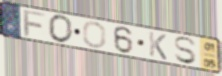6: (112, 25, 134, 55)
F: (22, 8, 47, 38)
K: (147, 31, 168, 62)
O: (47, 14, 74, 45), (82, 21, 108, 49)
S: (173, 36, 199, 65)
